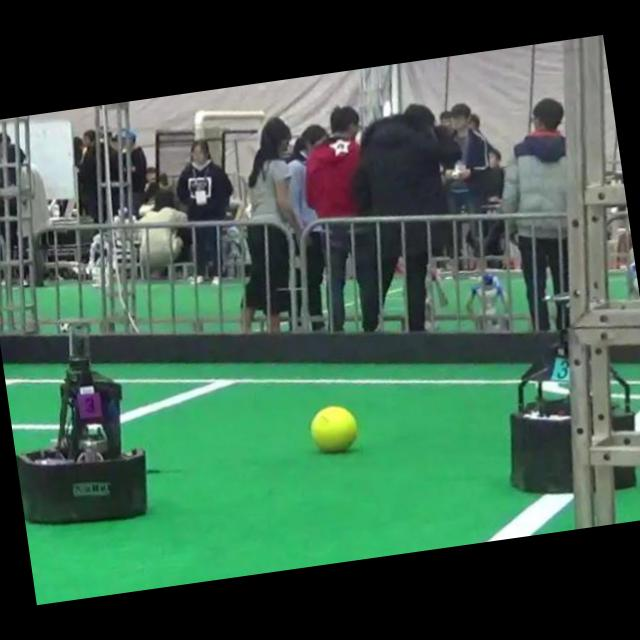ball: (310, 406, 357, 453)
robot: (16, 324, 147, 524), (510, 301, 573, 492)
